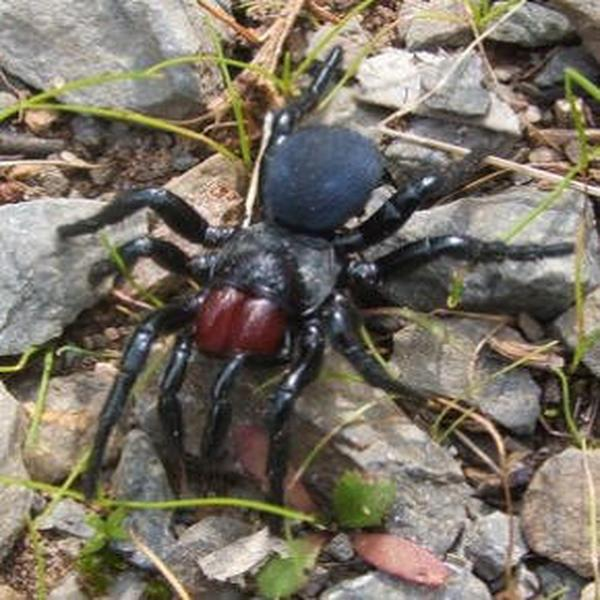Red Headed Mouse Spider: (102, 82, 479, 486)
